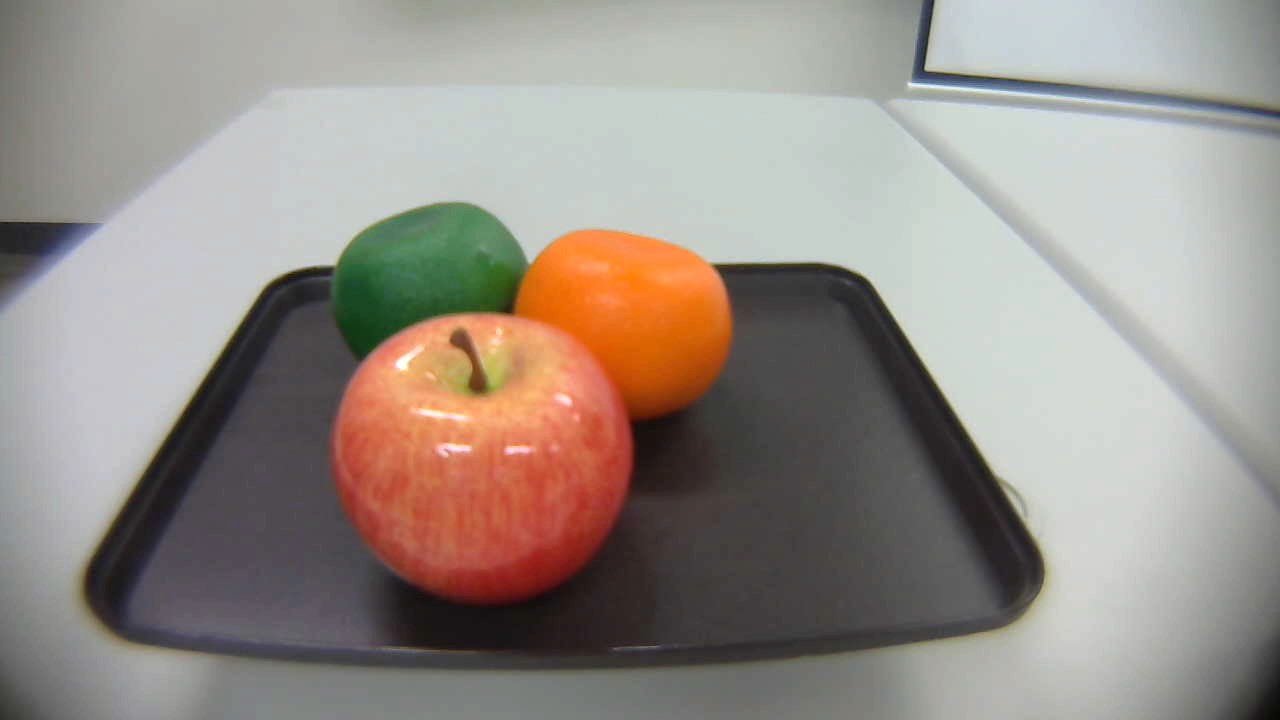green orange: (325, 205, 546, 363)
orange: (505, 222, 747, 437)
red apple: (317, 306, 639, 611)
